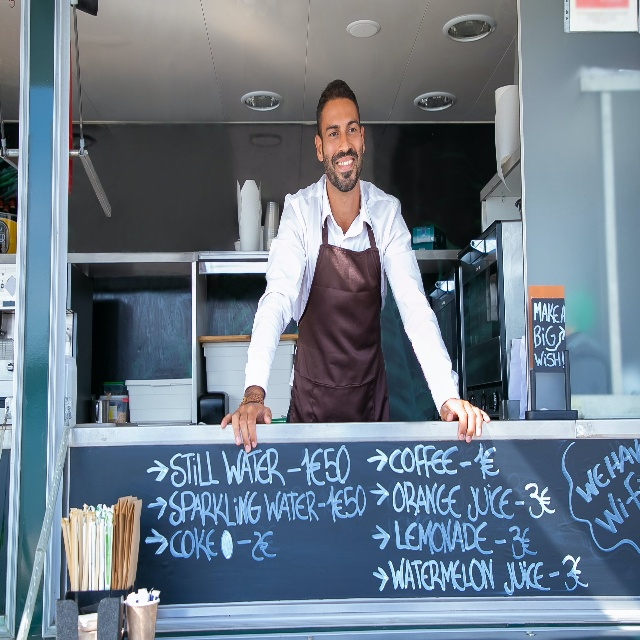Sin_guantes: (220, 400, 272, 453), (440, 397, 490, 442)
